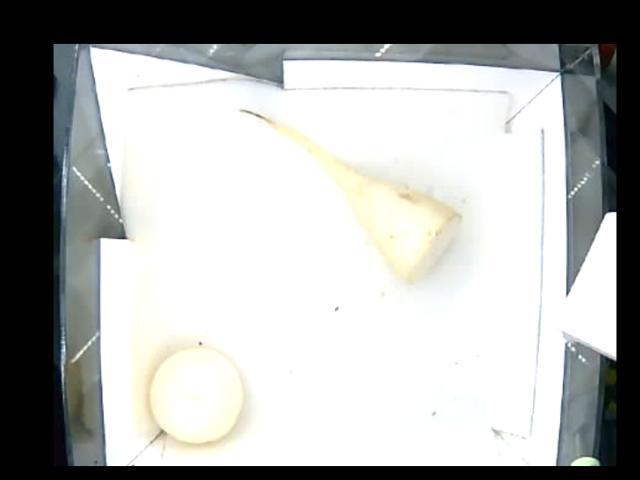Mooli: (341, 164, 459, 282), (147, 342, 245, 444)
